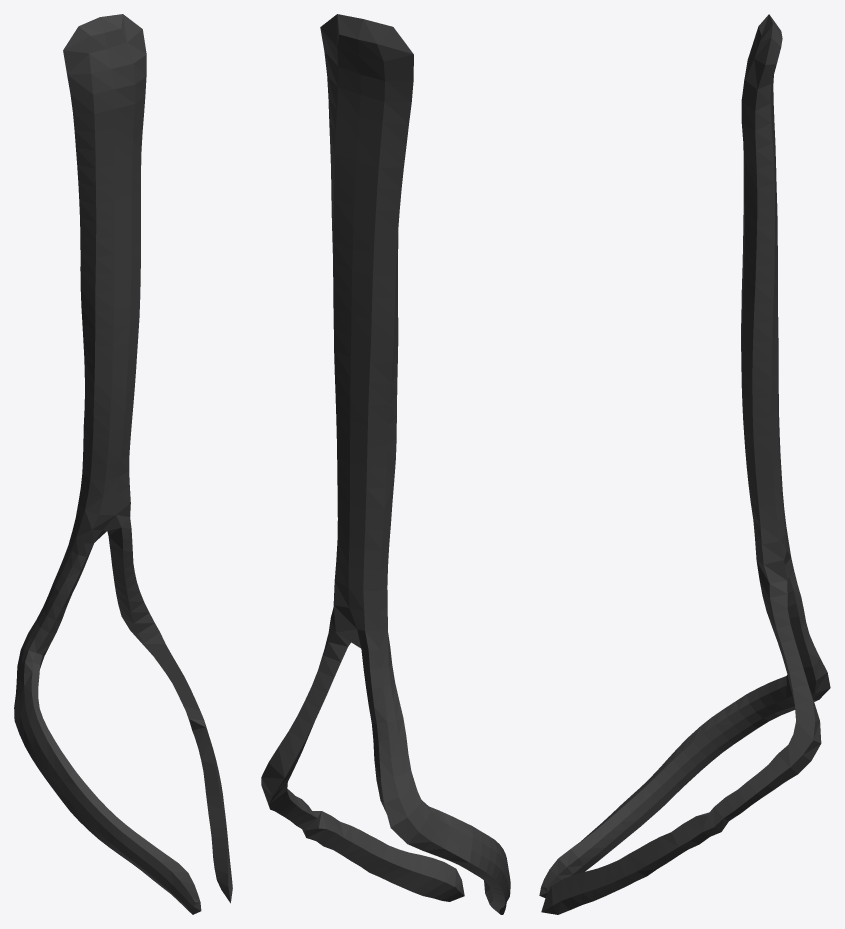
File: Interosseus.glb
3 renders of one model, left to right at view 1: azimuth 30°, elevation 25°; view 2: azimuth 150°, elevation 25°; view 3: azimuth 270°, elevation 25°, orthographic. The views are drawn at different scales.
Parts seen in each view (by area): view 1: Interosseus; view 2: Interosseus; view 3: Interosseus.
Boxes of the visible parts, x1,y1,x2,y2 form: Interosseus: (14, 14, 232, 914); Interosseus: (261, 14, 510, 914); Interosseus: (539, 14, 830, 914).
Size of the model in its own units: 13.83 by 64.51 by 19.32.
Materials: 1 (1 with a texture image).
